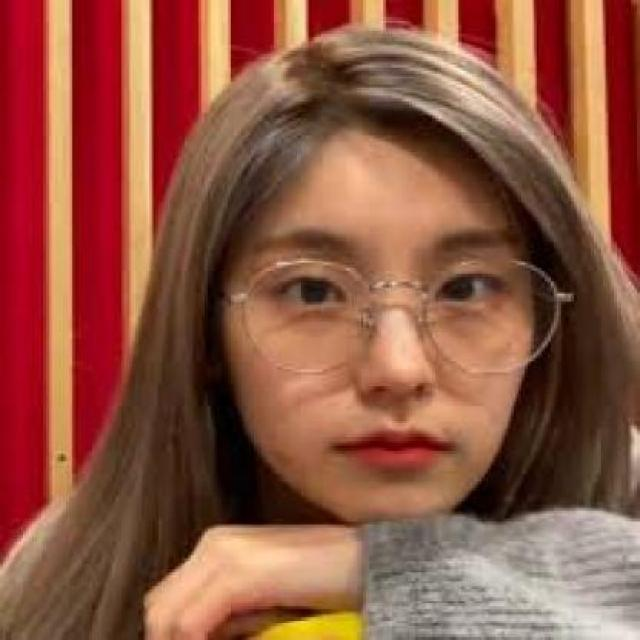glasses: (216, 248, 579, 390)
